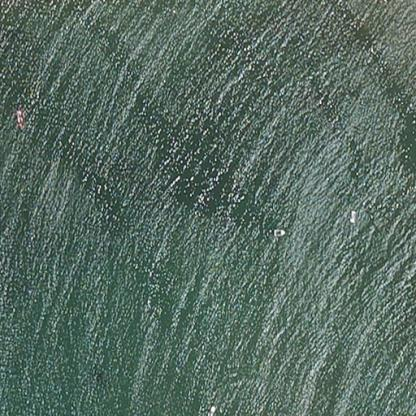ship: (10, 100, 29, 132), (268, 223, 290, 239), (344, 206, 360, 226)
